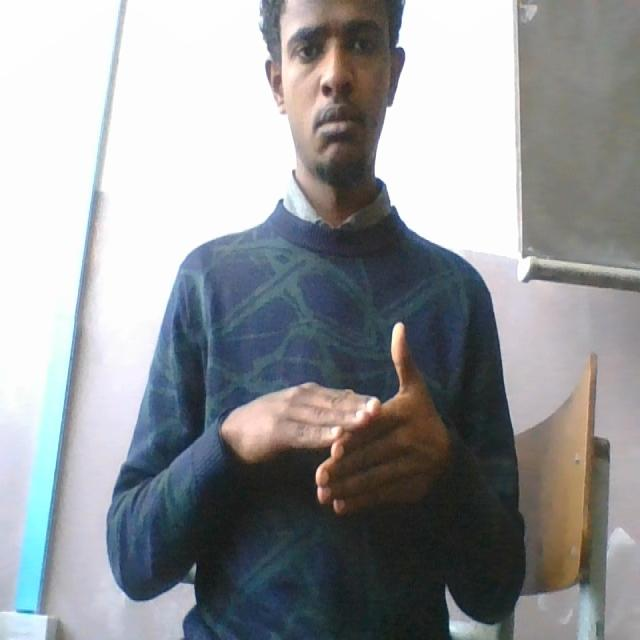tadya: (216, 314, 431, 528)
